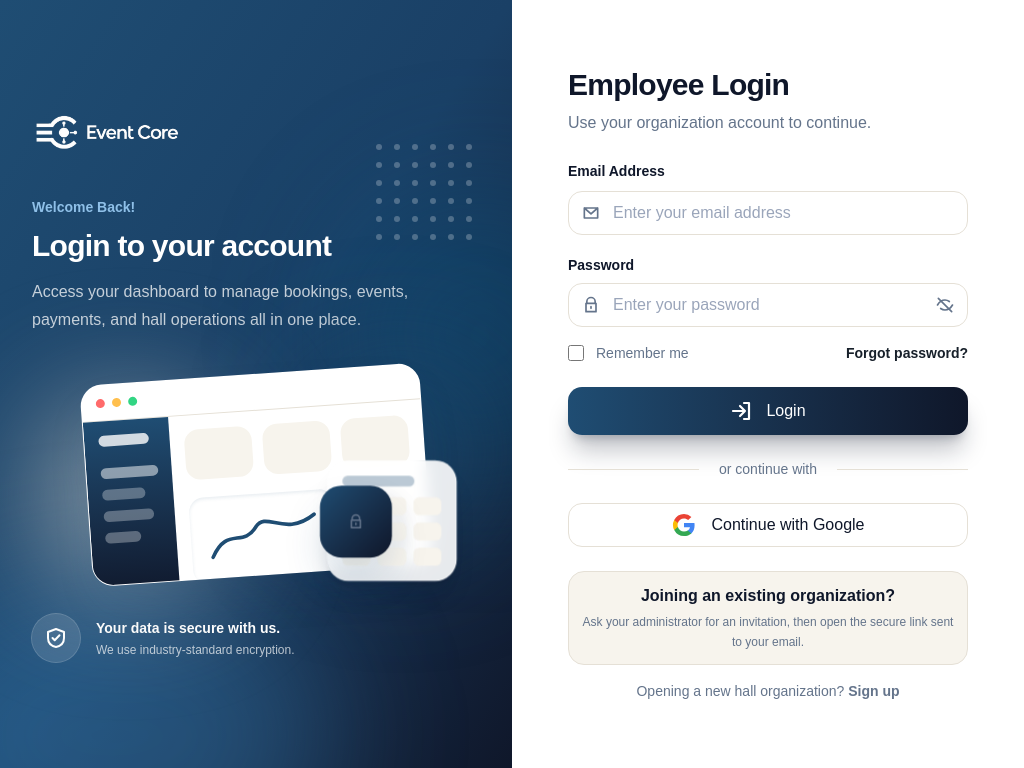
Test case: LoginCard failure paths › reports a social login failure and re-enables the provider button
Click the button "Continue with Google" at (768, 525), box top-left (568, 503), bottom-right (968, 547)
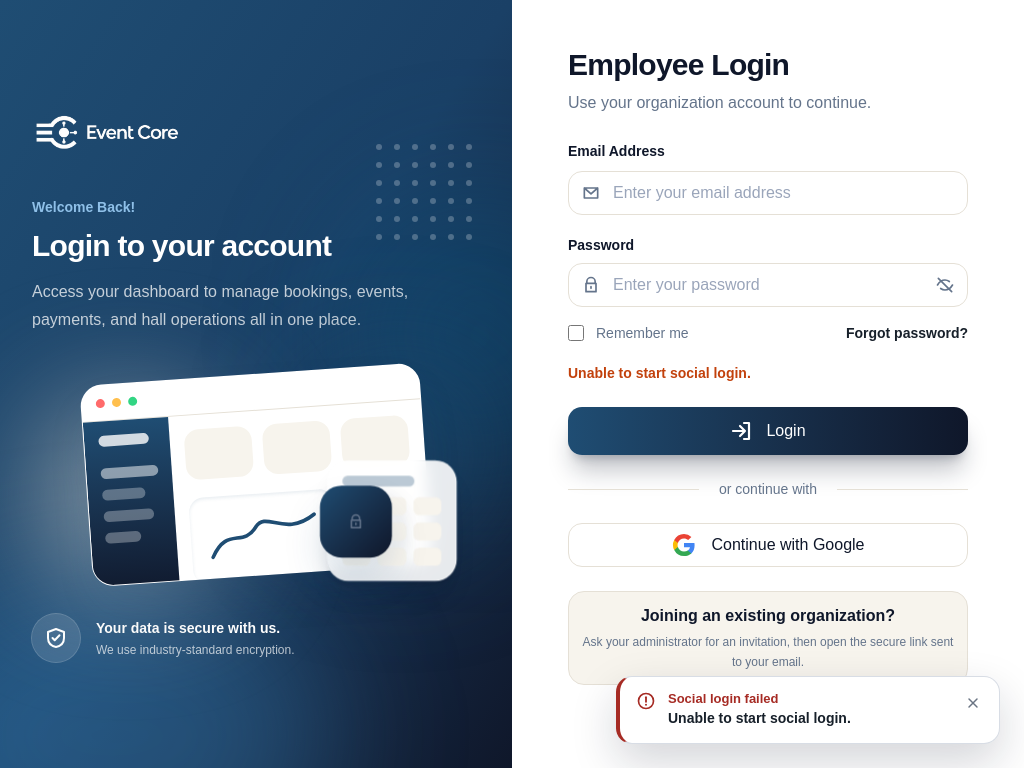
Check: the text "Unable to start social login." is shown 2 times, box top-left (568, 365), bottom-right (751, 381); top-left (668, 710), bottom-right (851, 726)
Check: the text "Social login failed" is shown, box top-left (668, 691), bottom-right (778, 706)
